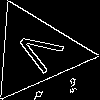V: (11, 27, 74, 80)
